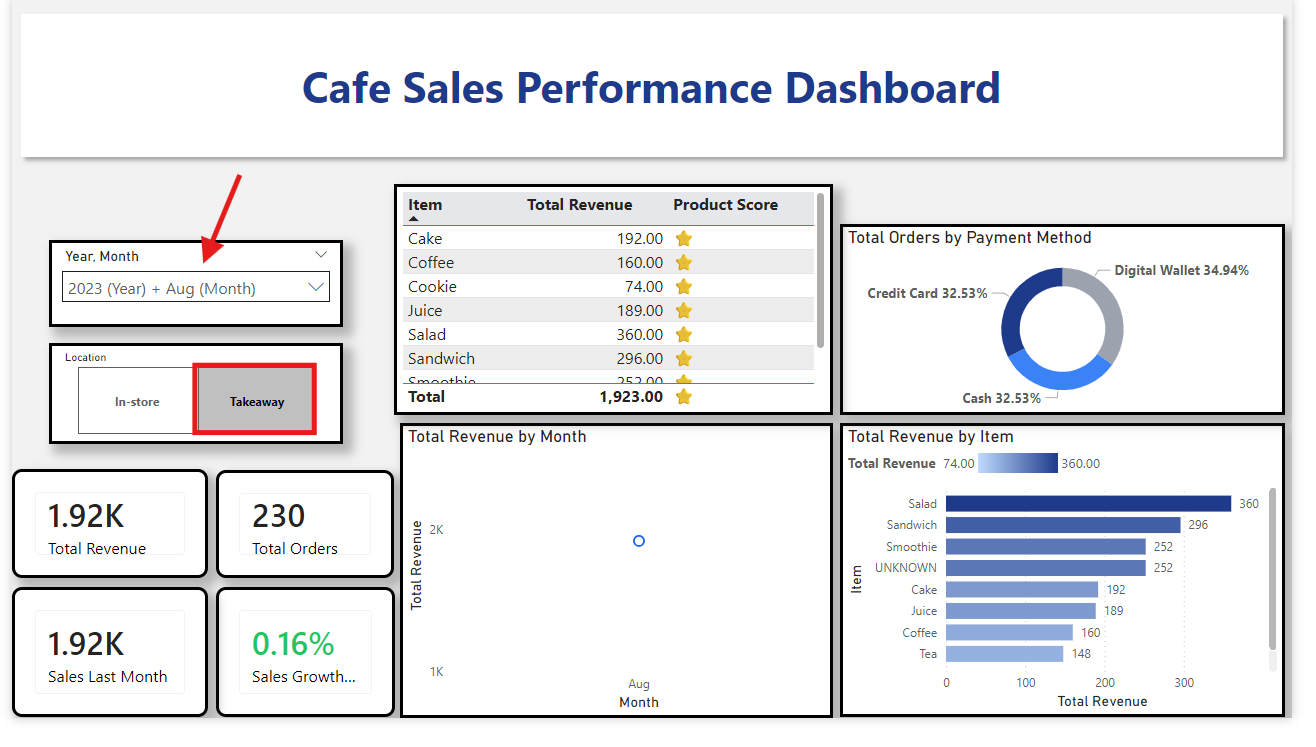

Layout of this report page (visuals, bound fields, positions):
{"tool":"powerbi","page":{"name":"Page 1","canvas":[1280,720],"ordinal":0},"visuals":[{"type":"slicer","fields":{"Values":["DateTable.Year","DateTable.Month"]},"box":[37.3,241.7,293.9,87.3],"z":0},{"type":"slicer","fields":{"Values":["dirty_cafe_sales.Location"]},"box":[37.3,345,293.9,101.2],"z":1000},{"type":"cardVisual","fields":{"Data":["_Measures.Total Revenue"]},"box":[0,470.7,195.9,109.7],"z":3000},{"type":"cardVisual","fields":{"Data":["_Measures.Total Orders"]},"box":[204.5,471.7,177.8,108.6],"z":4000},{"type":"cardVisual","fields":{"Data":["_Measures.Sales Growth %"]},"box":[204.5,588.9,178.9,129.9],"z":5000},{"type":"cardVisual","fields":{"Data":["_Measures.Sales Last Month"]},"box":[0,588.9,195.9,129.9],"z":6000},{"type":"lineChart","fields":{"Category":["DateTable.Month"],"Y":["_Measures.Total Revenue"]},"box":[387.6,424.9,433.4,295],"z":7000},{"type":"clusteredBarChart","fields":{"Y":["_Measures.Total Revenue"],"Category":["Dim_Product.Item"]},"box":[828.5,424.9,444.1,293.9],"z":8000},{"type":"donutChart","fields":{"Category":["dirty_cafe_sales.Payment Method"],"Y":["_Measures.Total Orders"]},"box":[828.5,225.8,444.1,191.7],"z":9000},{"type":"tableEx","fields":{"Values":["Dim_Product.Item","_Measures.Total Revenue","_Measures.Product Score"]},"box":[382.3,186.4,438.7,231.1],"z":10000},{"type":"shape","box":[0,7.5,1280,160.8],"z":11000},{"type":"textbox","box":[265.2,54.3,748.6,67.1],"z":12000}]}

Visuals, with their boxes in screenshot pixels (x1, y1, x2, y2), scaled from the page's 1280x720 canvas onto the 1316x747 screenshot:
slicer - DateTable.Year x DateTable.Month: 38/251/341/341
slicer - dirty_cafe_sales.Location: 38/358/341/463
cardVisual - _Measures.Total Revenue: 0/488/201/602
cardVisual - _Measures.Total Orders: 210/489/393/602
cardVisual - _Measures.Sales Growth %: 210/611/394/746
cardVisual - _Measures.Sales Last Month: 0/611/201/746
lineChart - DateTable.Month x _Measures.Total Revenue: 399/441/844/746
clusteredBarChart - _Measures.Total Revenue x Dim_Product.Item: 852/441/1308/746
donutChart - dirty_cafe_sales.Payment Method x _Measures.Total Orders: 852/234/1308/433
tableEx - Dim_Product.Item x _Measures.Total Revenue: 393/193/844/433
shape: 0/8/1315/175
textbox: 273/56/1042/126
